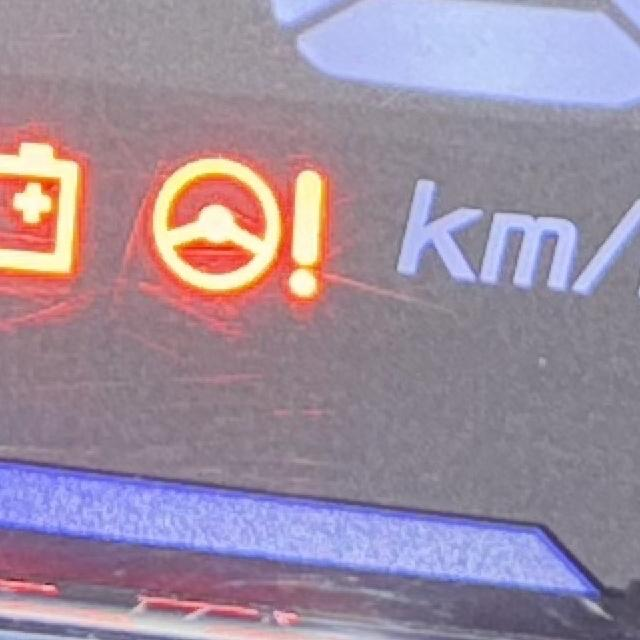Battery Issue: (1, 136, 84, 279)
Steering Wheel Locked: (130, 149, 333, 302)
